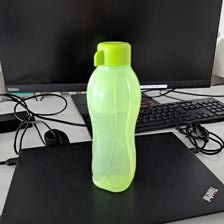bottle: (84, 39, 143, 192)
